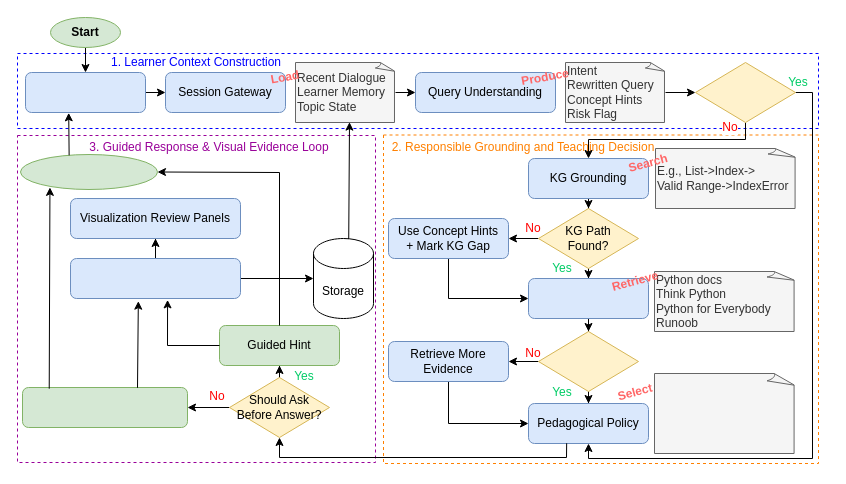
Some shapes in this 846 by 484 pixel diagram are drawn without their labels. Here are the shapes that lost their labels. From the top down, the box of each, then its label:
(24, 72, 146, 112): Student Question
(694, 62, 796, 122): Direct Answer Risk?
(20, 154, 158, 190): Next Learner Turn
(70, 258, 240, 298): Evidence Logging & Memory Update
(528, 278, 648, 318): RAG Evidence
(538, 330, 638, 392): Evidence Sufficient?
(22, 386, 188, 428): Source-grounded Explanation
(654, 372, 796, 454): Hint Ladder Confidence Check Retrieve-first Gate Teach Back Error Coaching
